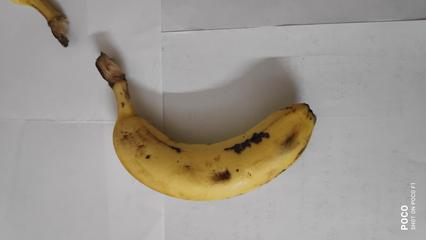banana: (111, 99, 320, 202)
